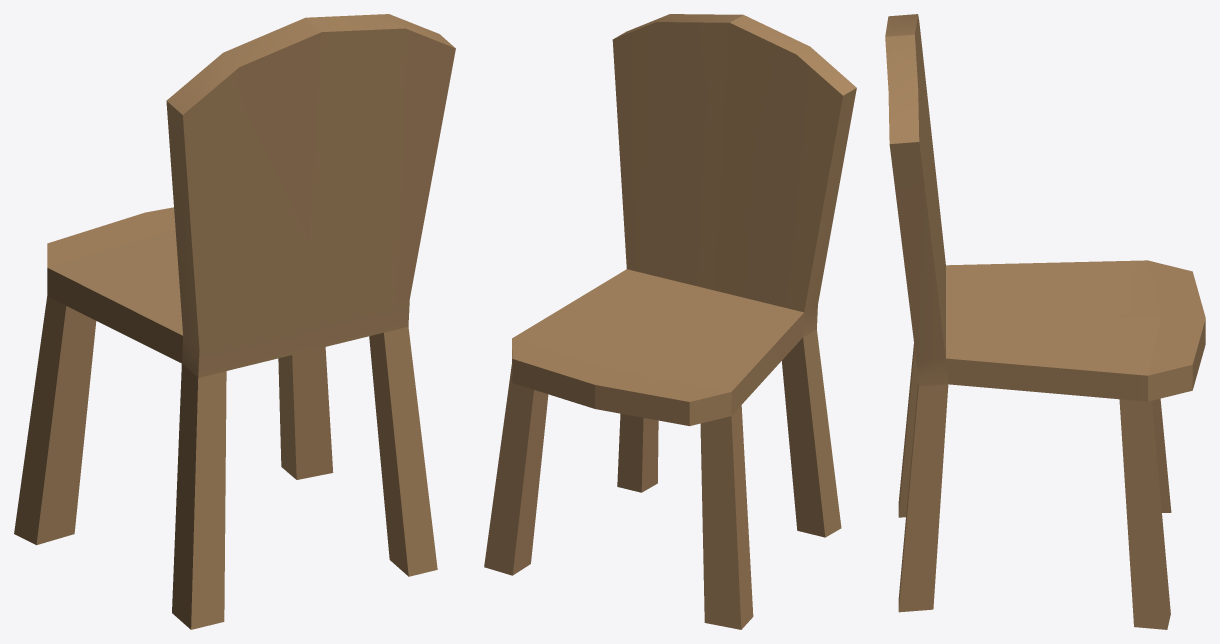
The model's file is chair.fbx.
3 views of the same model, side by side, from view 1: azimuth 30°, elevation 25°; view 2: azimuth 150°, elevation 25°; view 3: azimuth 270°, elevation 25° (orthographic). The views are drawn at different scales.
Visible parts, largest first — view 1: pCube8; view 2: pCube8; view 3: pCube8.
Part boxes in pixels (box(x1,y1,x2,y2)): pCube8: box(14, 14, 455, 629); pCube8: box(484, 14, 856, 629); pCube8: box(885, 14, 1205, 629).
Size of the model in its own units: 54.02 by 98.3 by 54.12.
